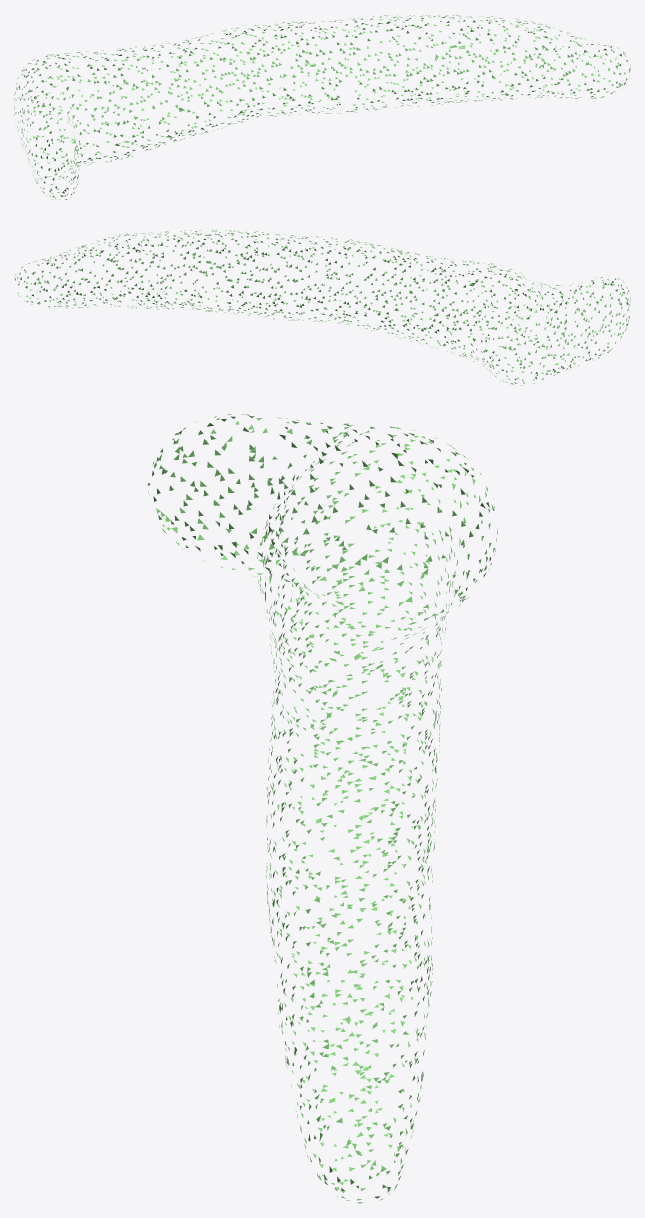
File: morph_016.glb
3 renders of one model, top to bottom at view 1: azimuth 30°, elevation 25°; view 2: azimuth 150°, elevation 25°; view 3: azimuth 270°, elevation 25°, orthographic. The views are drawn at different scales.
Size of the model in its own units: 139 by 33.99 by 37.21.
